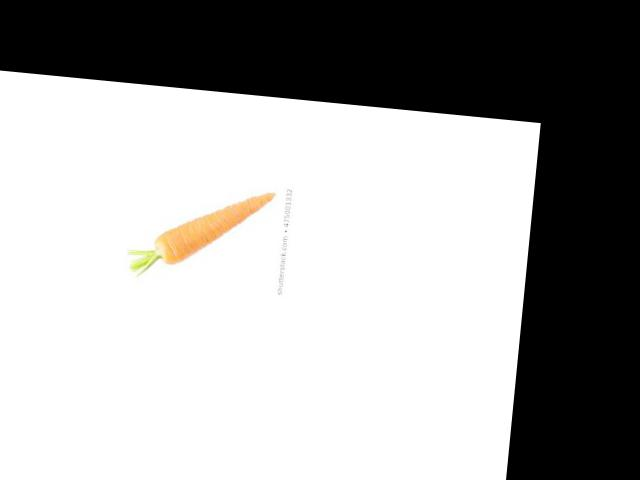carrot: (149, 175, 281, 277)
